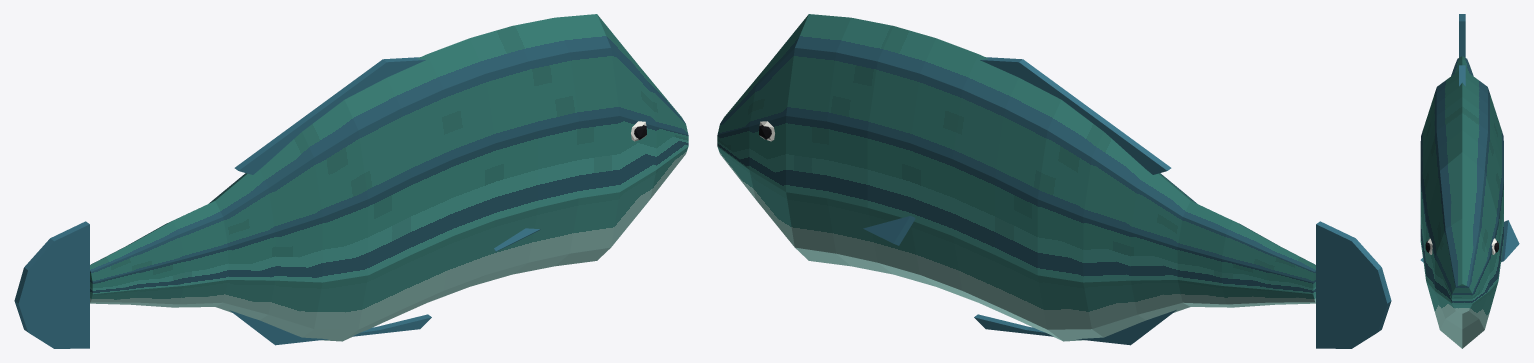
The model's file is humphead_wrasse.glb.
3 renders of one model, left to right at view 1: azimuth 30°, elevation 25°; view 2: azimuth 150°, elevation 25°; view 3: azimuth 270°, elevation 25°, orthographic. The views are drawn at different scales.
Parts seen in each view (by area): view 1: fish_humphead_wrasse; view 2: fish_humphead_wrasse; view 3: fish_humphead_wrasse.
Part boxes in pixels (x1,y1,x2,y2): fish_humphead_wrasse: (14,14,688,348); fish_humphead_wrasse: (717,14,1391,348); fish_humphead_wrasse: (1420,14,1519,348).
Size of the model in its own units: 1.12 by 0.4484 by 0.1813.
Materials: 4 (1 with a texture image).
